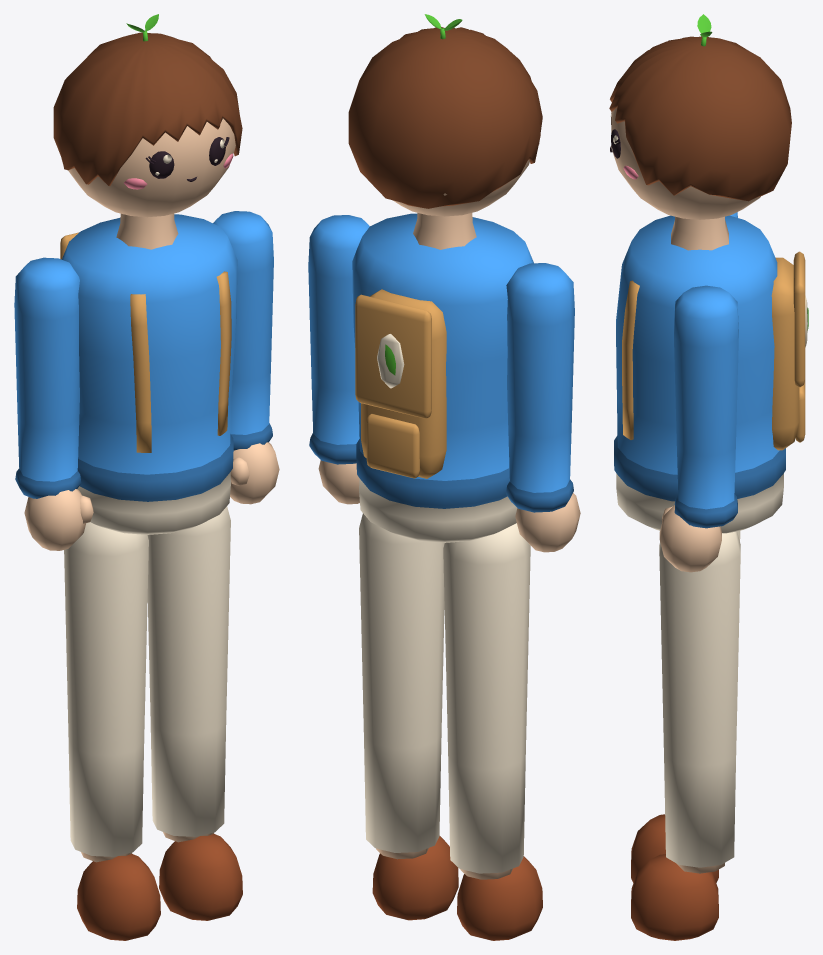
The model's file is hero-man-grown.glb.
3 views of the same model, side by side, from view 1: azimuth 30°, elevation 25°; view 2: azimuth 150°, elevation 25°; view 3: azimuth 270°, elevation 25° (orthographic). The views are drawn at different scales.
Parts seen in each view (by area): view 1: body, leg-left, leg-right, head, arm-left, arm-right; view 2: body, leg-left, head, leg-right, arm-left, arm-right; view 3: body, leg-right, head, arm-right, leg-left.
Part boxes in pixels (left/top/right/bottom): body: left=60, top=214, right=237, bottom=534; leg-left: left=64, top=522, right=160, bottom=940; leg-right: left=147, top=506, right=242, bottom=920; head: left=53, top=32, right=242, bottom=249; arm-left: left=14, top=257, right=93, bottom=550; arm-right: left=213, top=211, right=279, bottom=504; body: left=352, top=213, right=533, bottom=542; leg-left: left=443, top=523, right=542, bottom=940; head: left=348, top=27, right=542, bottom=249; leg-right: left=359, top=513, right=458, bottom=920; arm-left: left=506, top=263, right=580, bottom=552; arm-right: left=308, top=215, right=369, bottom=504; body: left=614, top=215, right=808, bottom=533; leg-right: left=631, top=531, right=740, bottom=940; head: left=609, top=36, right=791, bottom=250; arm-right: left=659, top=285, right=738, bottom=572; leg-left: left=631, top=531, right=740, bottom=882.
Bounding box in the file's own units: 0.9172 × 3.11 × 0.6335.
